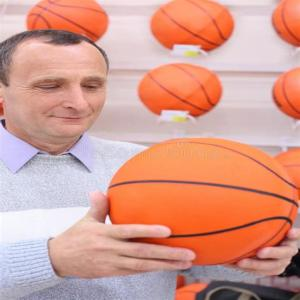Basket: (105, 137, 300, 266), (134, 63, 225, 120), (149, 0, 238, 55), (22, 0, 110, 46), (271, 65, 300, 118), (271, 146, 300, 197), (270, 0, 300, 48), (175, 281, 212, 300)
